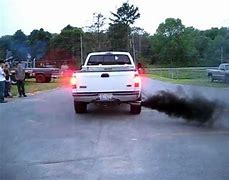smoke: (141, 84, 228, 124)
